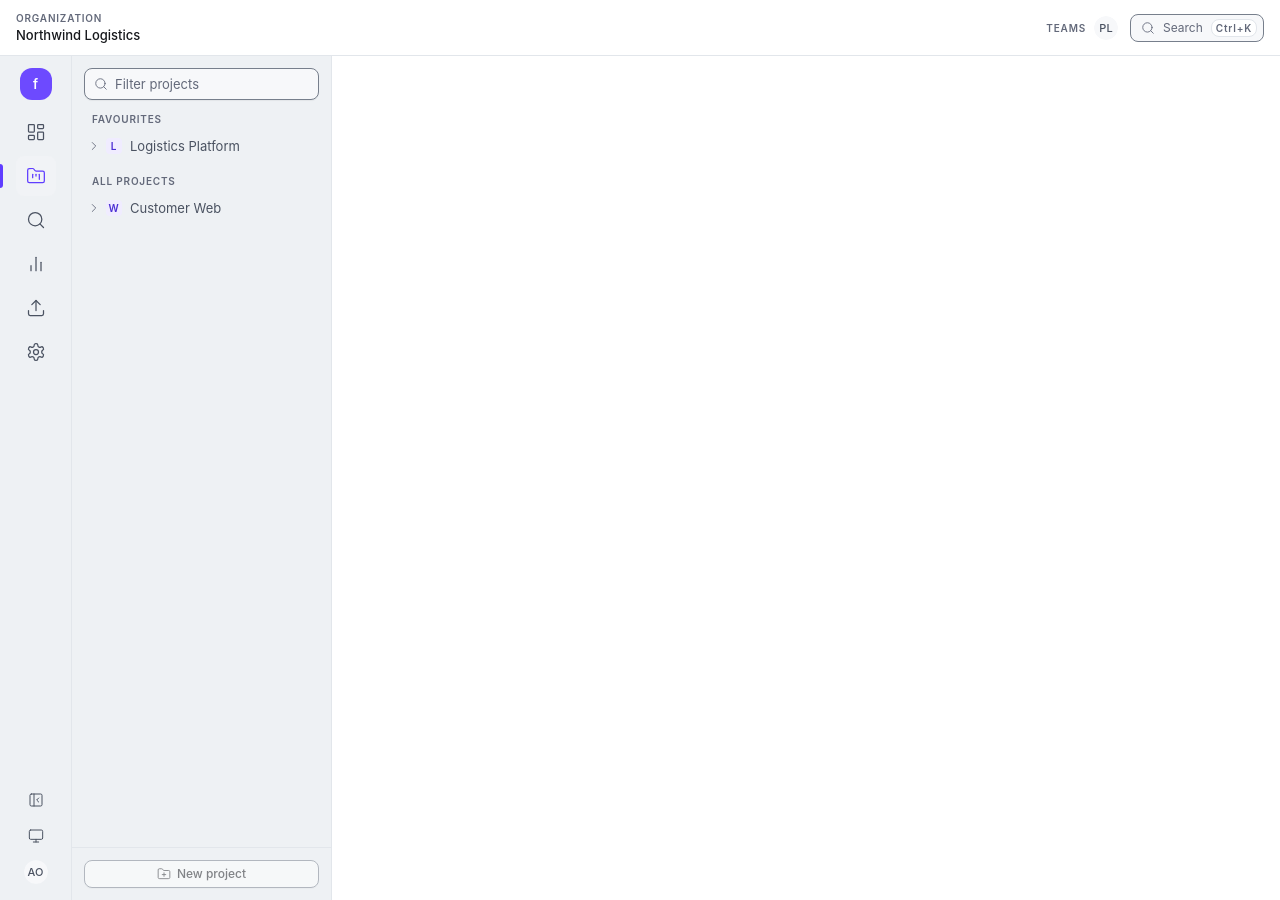
Test: the sidebar toggle › keeps what the tree is holding across a collapse and an expand
The image size is (1280, 900).
Check: the header is shown, box [0, 0, 1279, 56]
Type "LOG" into the field labelled "Filter projects". click: [202, 84]
box: [84, 68, 319, 100]
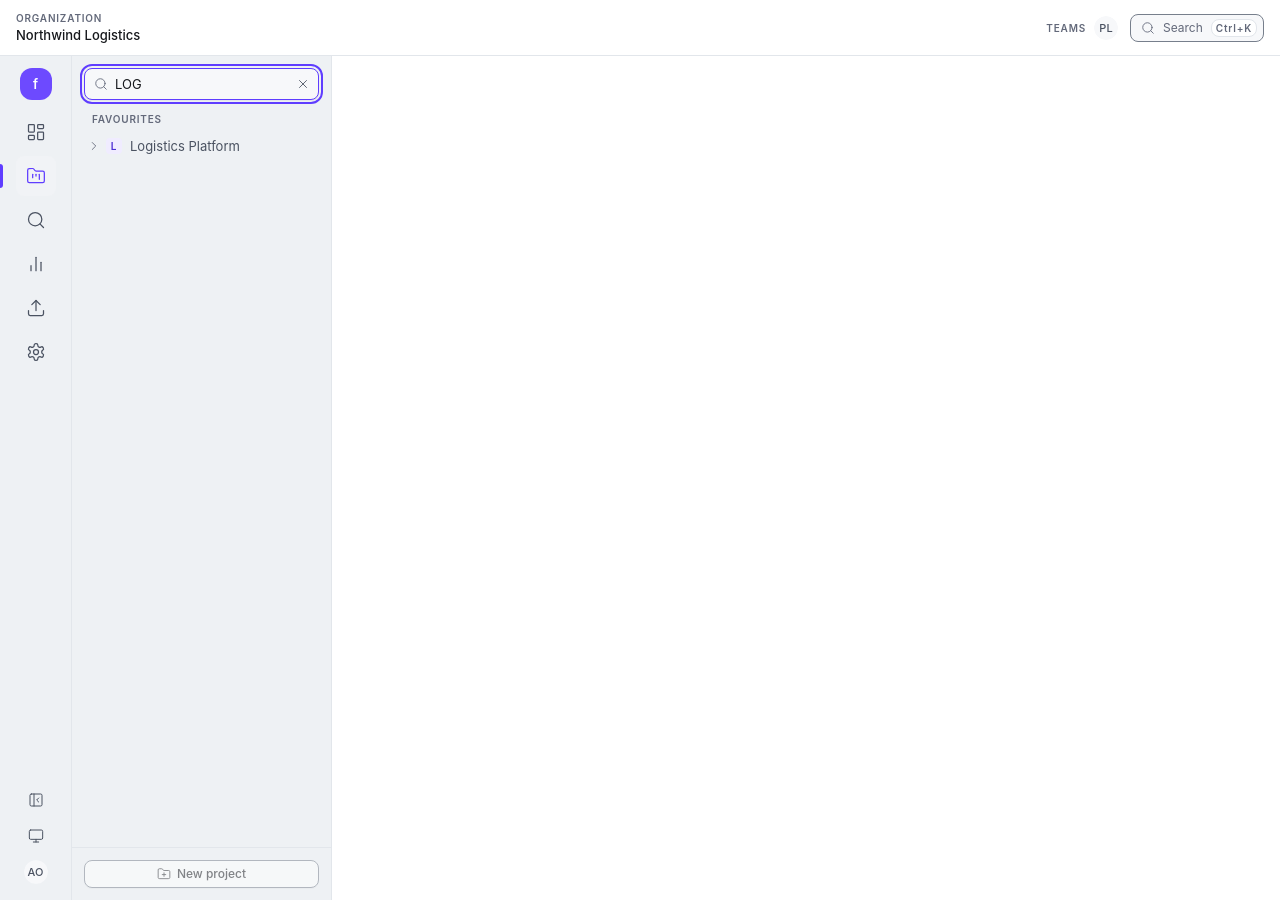
Click the button named "Collapse sidebar". click: [36, 800]
box: [20, 784, 52, 816]
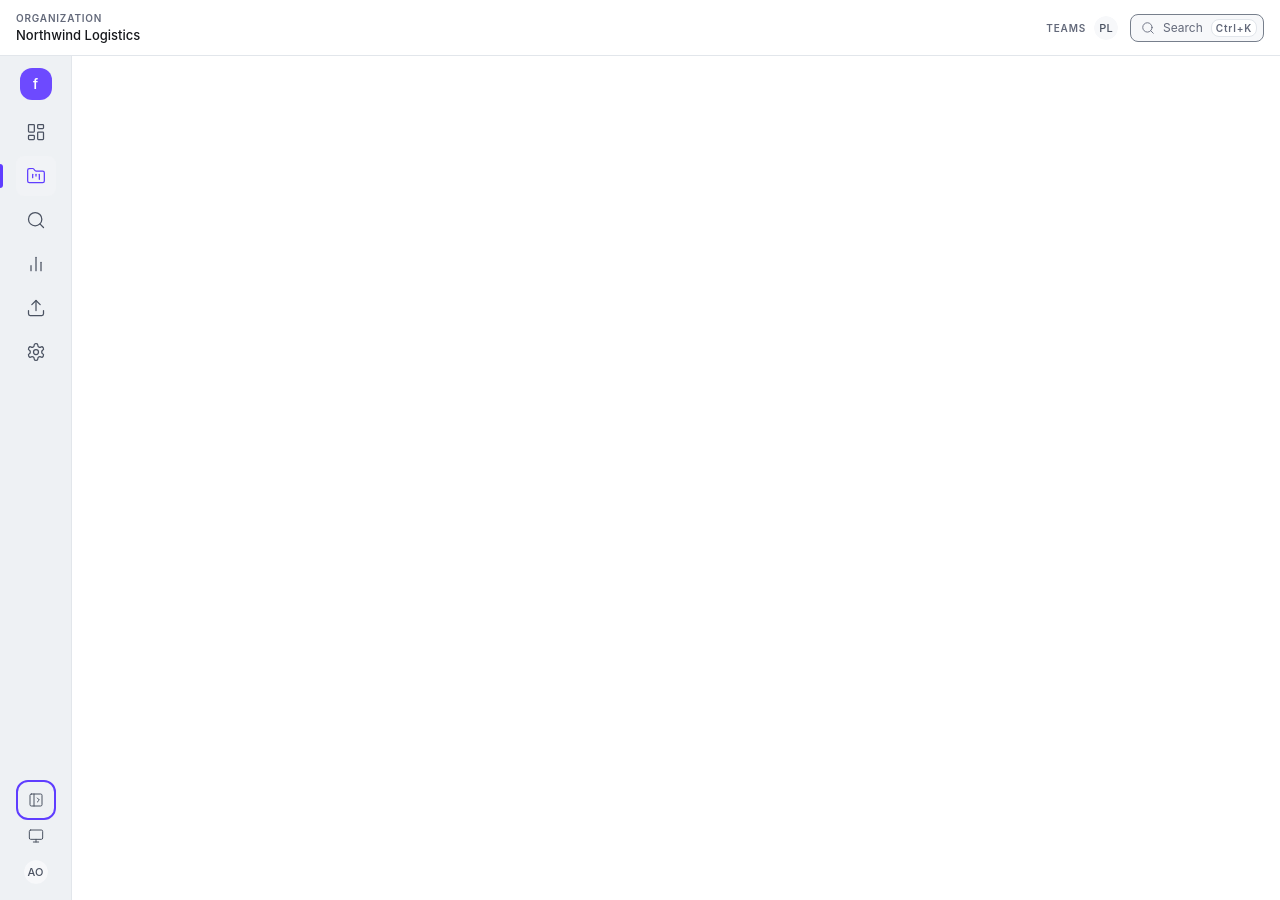
Click the button named "Expand sidebar". click: [36, 800]
box: [20, 784, 52, 816]
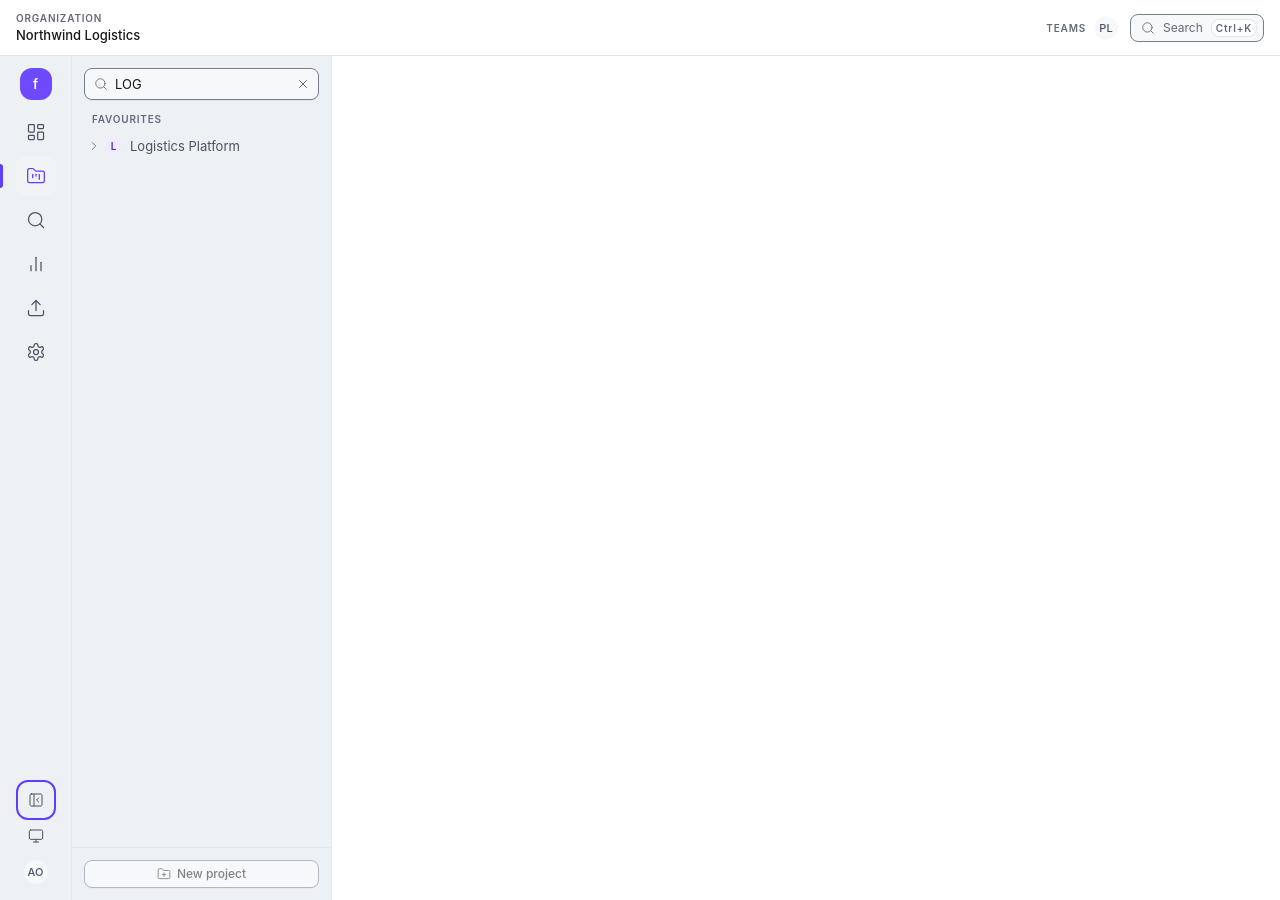
Check: the element showing "Favourites L Logistics Platform New project" is shown, box [72, 56, 332, 899]
